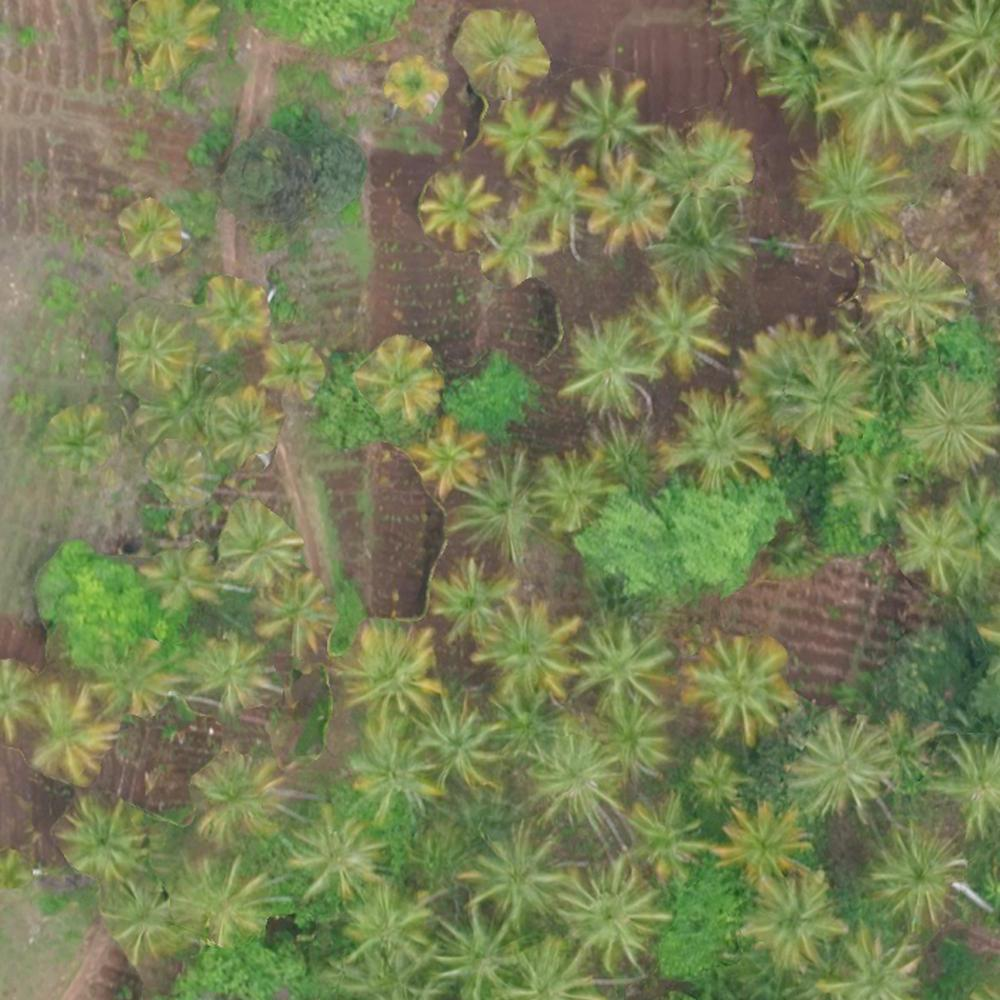Palm: (816, 12, 938, 139), (660, 385, 780, 490), (793, 141, 905, 250), (684, 632, 795, 739), (475, 598, 578, 701), (901, 371, 1000, 476), (559, 863, 664, 962), (868, 821, 965, 928), (191, 749, 298, 844), (774, 349, 878, 446), (445, 458, 544, 558), (790, 714, 888, 815), (868, 250, 967, 347), (657, 190, 753, 288), (564, 316, 659, 415), (746, 869, 840, 968), (343, 622, 441, 716), (522, 733, 615, 827), (169, 858, 269, 944), (418, 692, 501, 795), (25, 688, 115, 780), (578, 158, 667, 251), (575, 623, 670, 710), (631, 288, 727, 374), (922, 64, 1000, 169), (468, 829, 561, 917), (577, 410, 665, 502), (357, 338, 449, 423), (290, 809, 377, 898), (252, 572, 341, 658), (887, 507, 975, 593), (429, 907, 517, 993), (457, 10, 548, 93), (724, 800, 815, 882), (348, 728, 441, 808), (341, 888, 434, 967), (217, 499, 298, 589), (563, 77, 653, 156), (104, 878, 192, 958), (829, 929, 927, 1000), (110, 312, 197, 390), (912, 1, 1000, 76), (600, 696, 679, 779), (192, 636, 277, 713), (61, 792, 141, 872), (95, 641, 178, 717), (533, 451, 611, 531), (402, 421, 487, 494), (477, 212, 558, 288), (129, 1, 218, 69), (626, 792, 699, 874), (679, 119, 761, 191), (418, 169, 494, 246), (512, 164, 591, 238), (482, 95, 562, 168), (141, 538, 220, 611), (837, 450, 911, 526), (212, 389, 278, 465), (116, 198, 190, 265), (201, 277, 272, 345), (45, 401, 112, 472), (141, 443, 204, 513), (264, 338, 327, 400), (385, 55, 447, 112)
